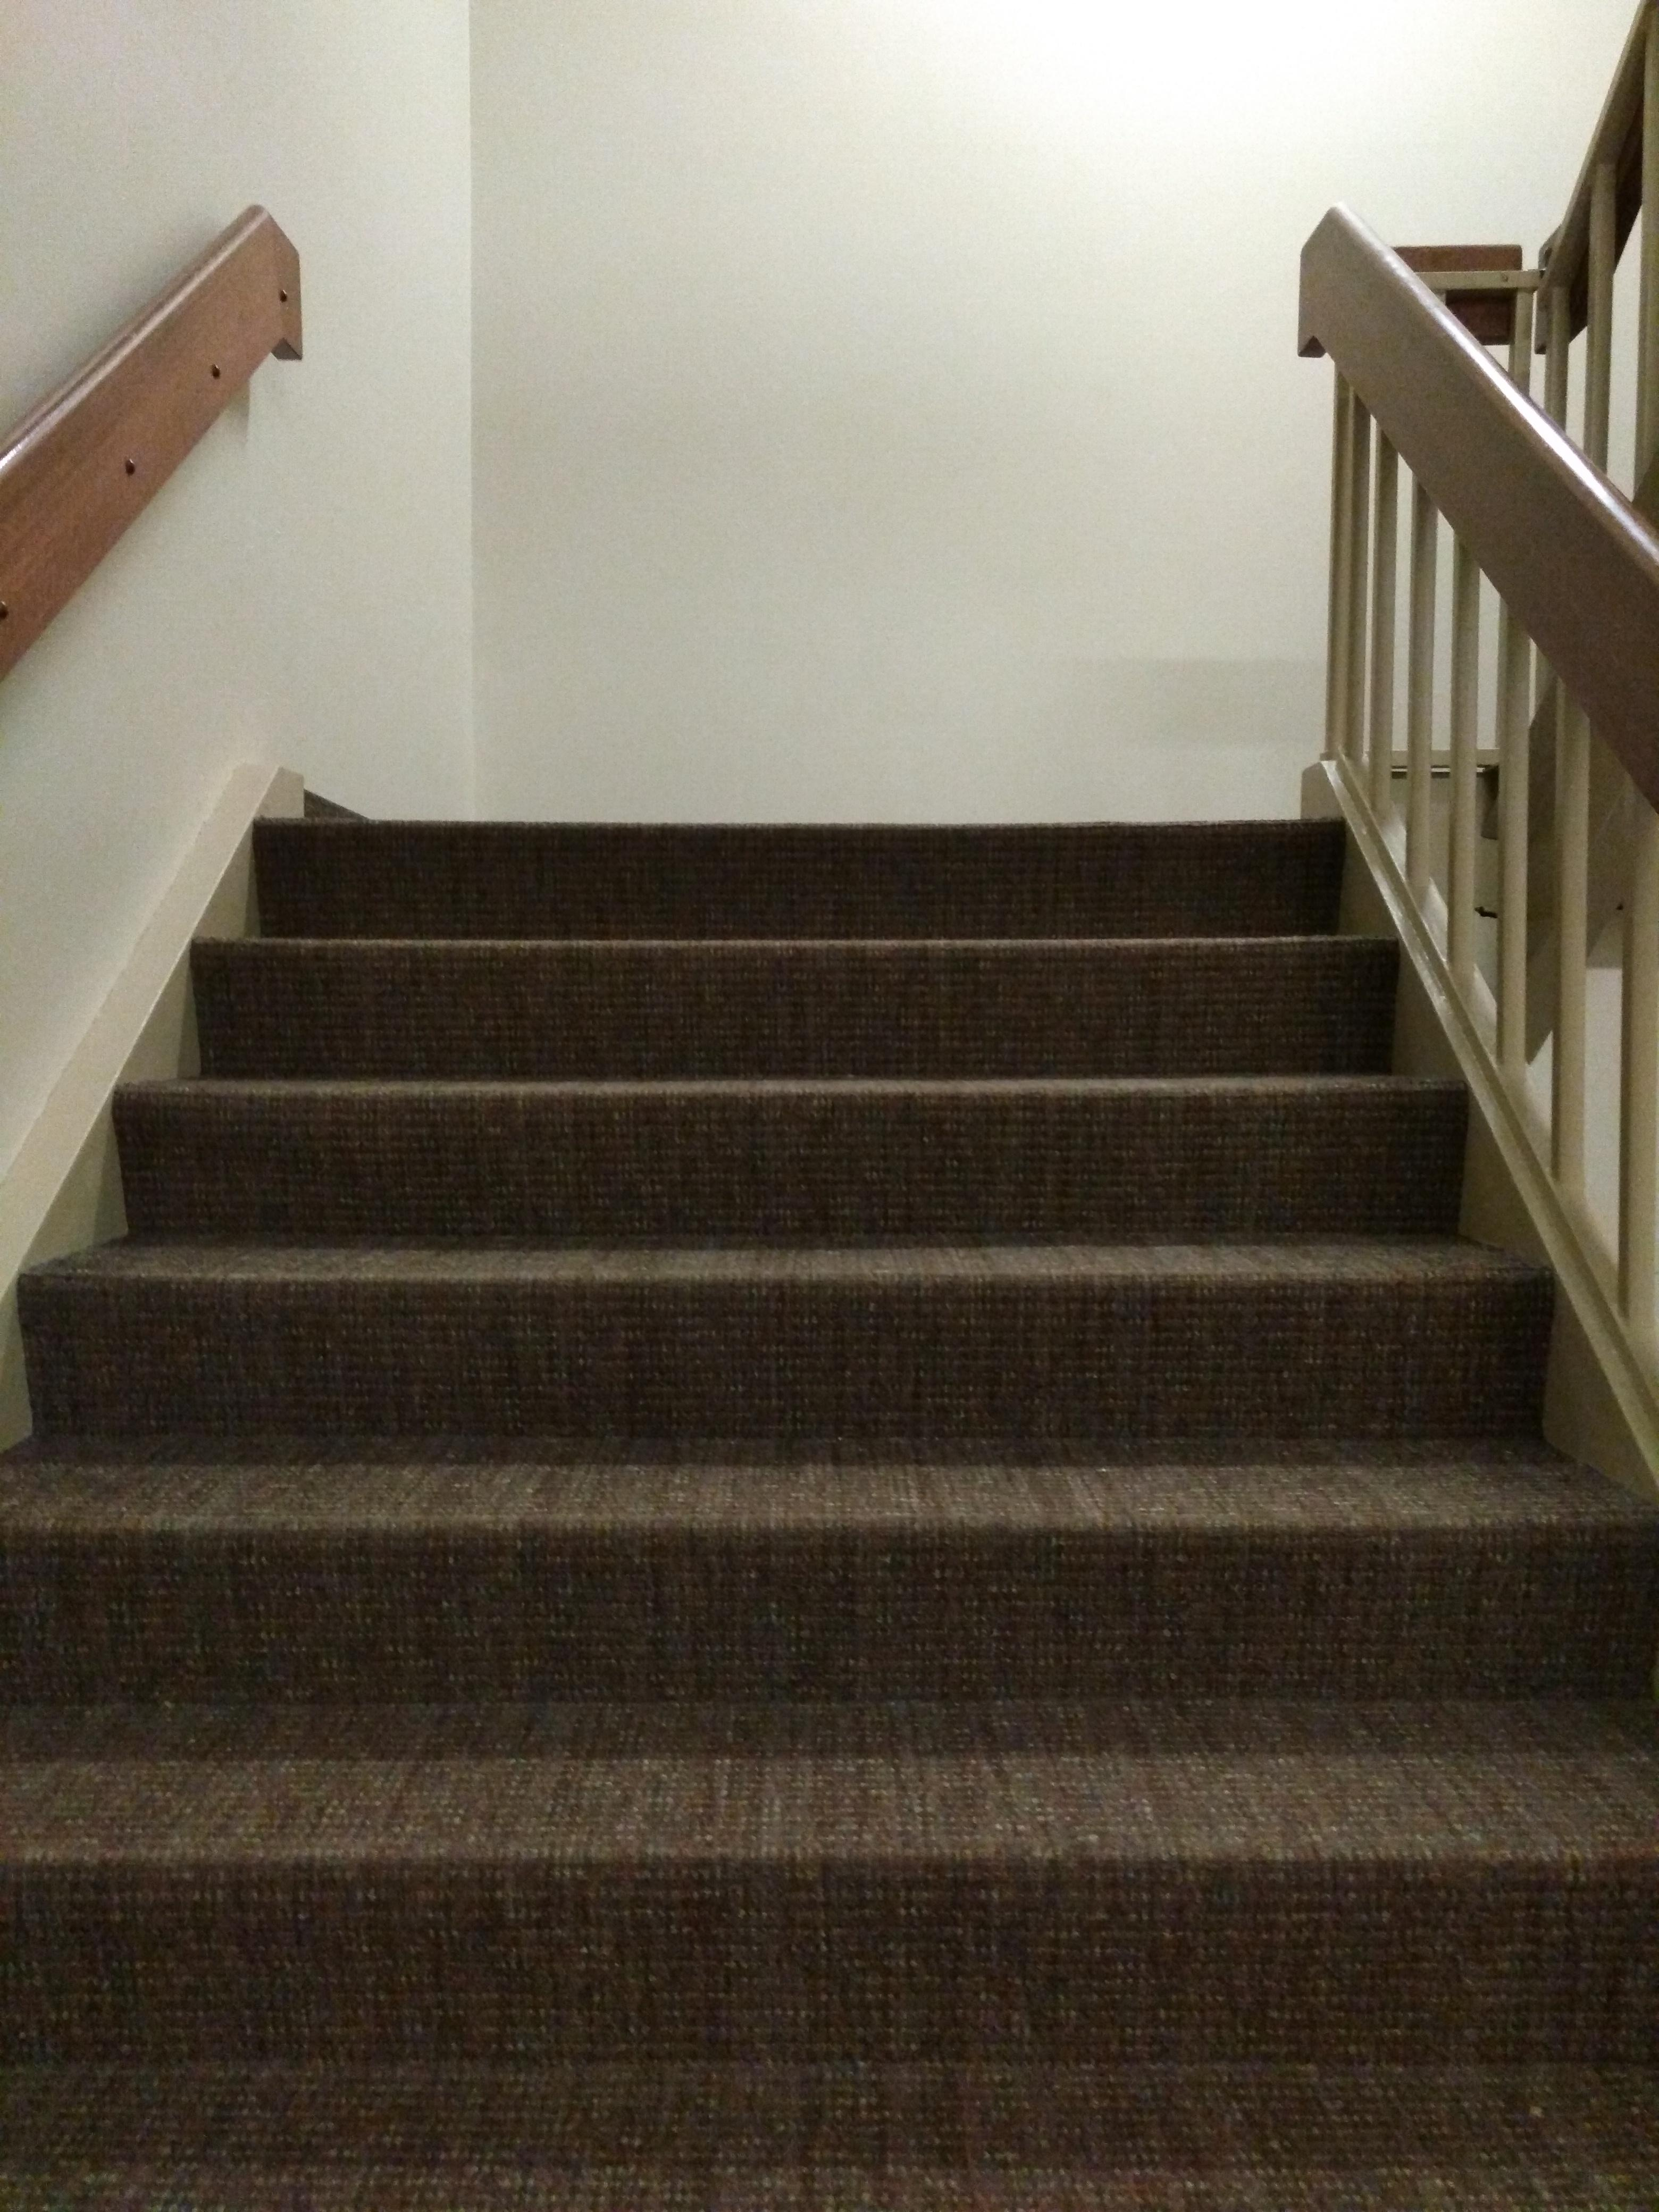stairs_up: (12, 693, 1659, 2212)
